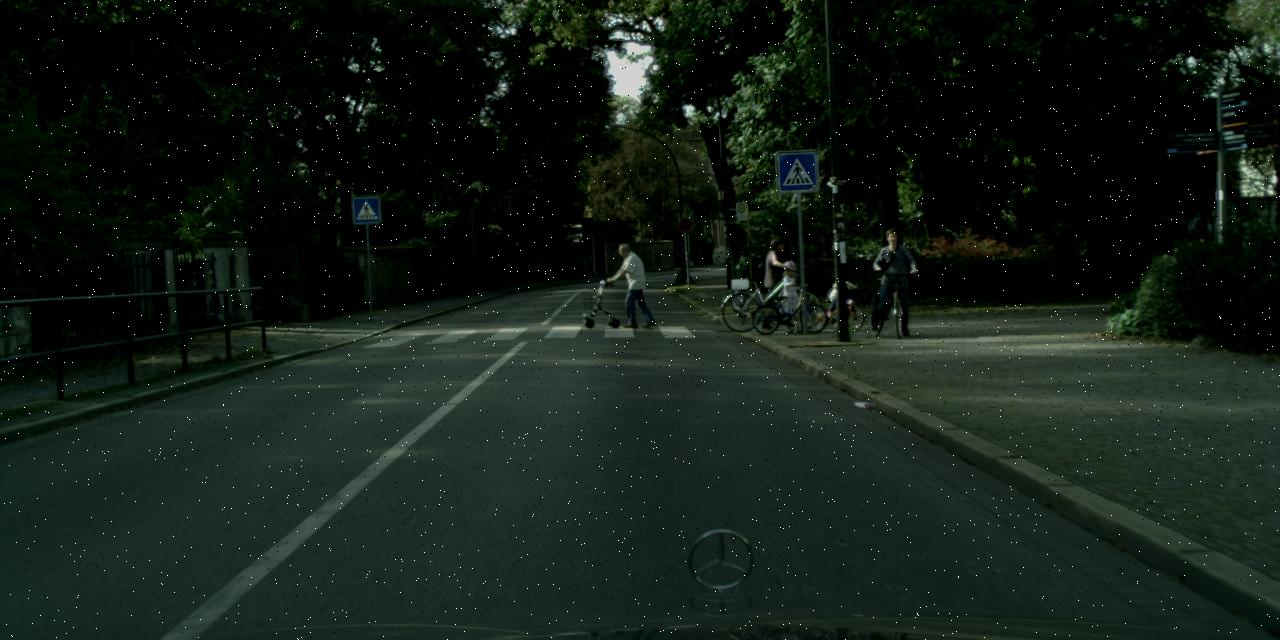ped: (872, 228, 912, 330), (759, 236, 796, 326), (614, 243, 648, 327), (778, 260, 806, 331), (828, 274, 848, 320)
